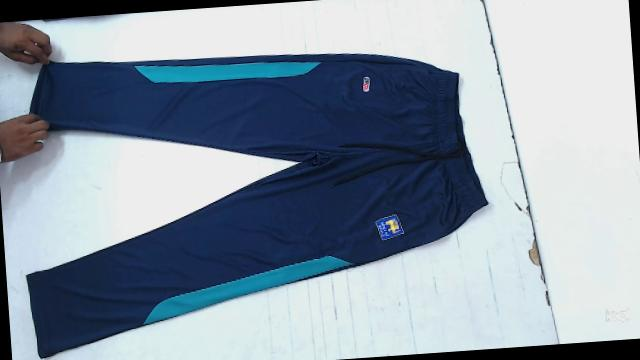new-garment: (29, 53, 487, 357)
